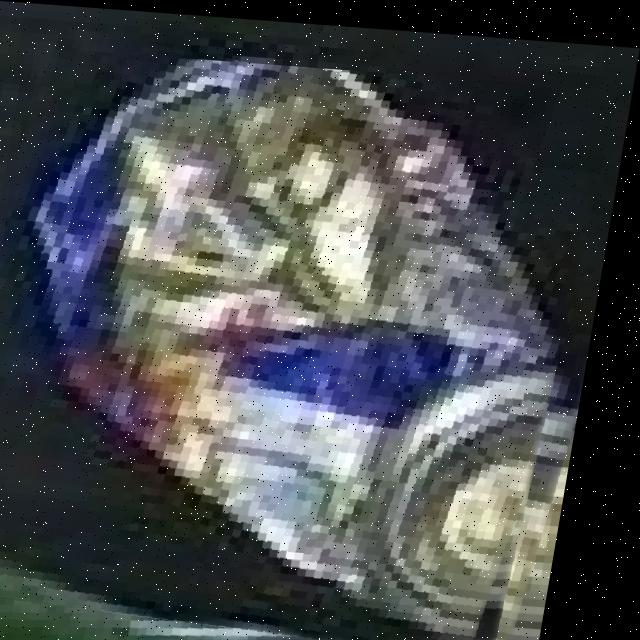litter: (15, 50, 579, 640)
